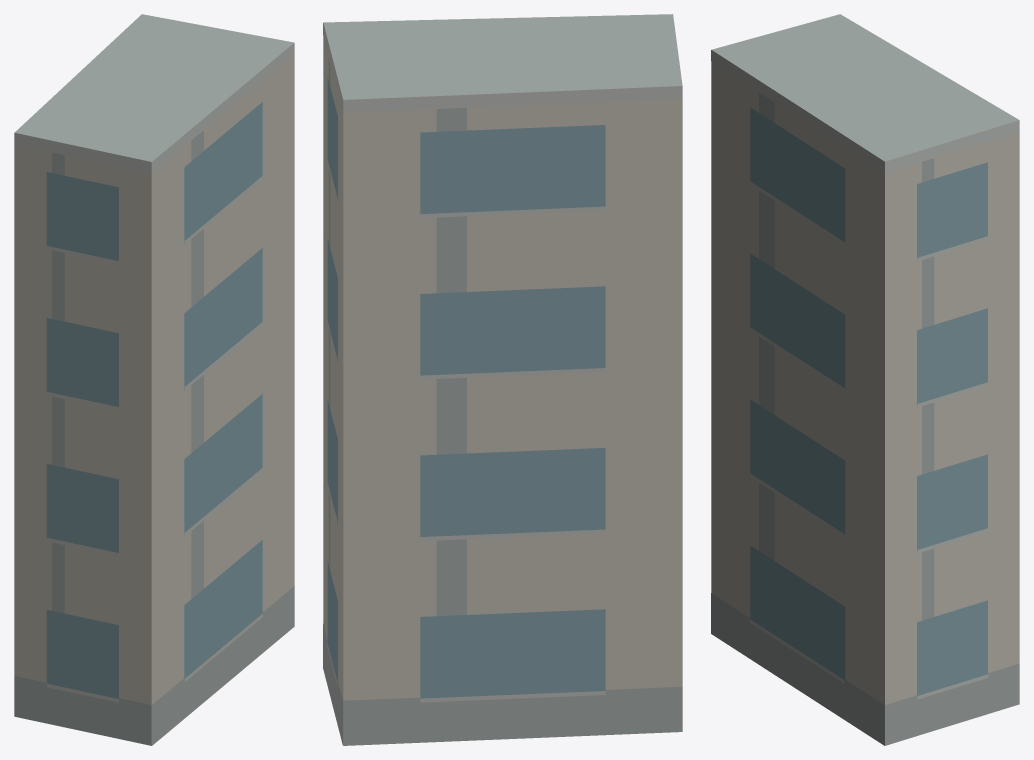
File: survey-upis-32988088.glb
3 views of the same model, side by side, from view 1: azimuth 30°, elevation 25°; view 2: azimuth 150°, elevation 25°; view 3: azimuth 270°, elevation 25° (orthographic). The views are drawn at different scales.
Visible parts, largest first — view 1: survey-upis-32988088.tmp; view 2: survey-upis-32988088.tmp; view 3: survey-upis-32988088.tmp.
Boxes of the visible parts, x1,y1,x2,y2 form: survey-upis-32988088.tmp: [14, 14, 294, 745]; survey-upis-32988088.tmp: [323, 14, 682, 745]; survey-upis-32988088.tmp: [711, 14, 1019, 745].
Bounding box in the file's own units: 6.62 × 12.2 × 5.84.
